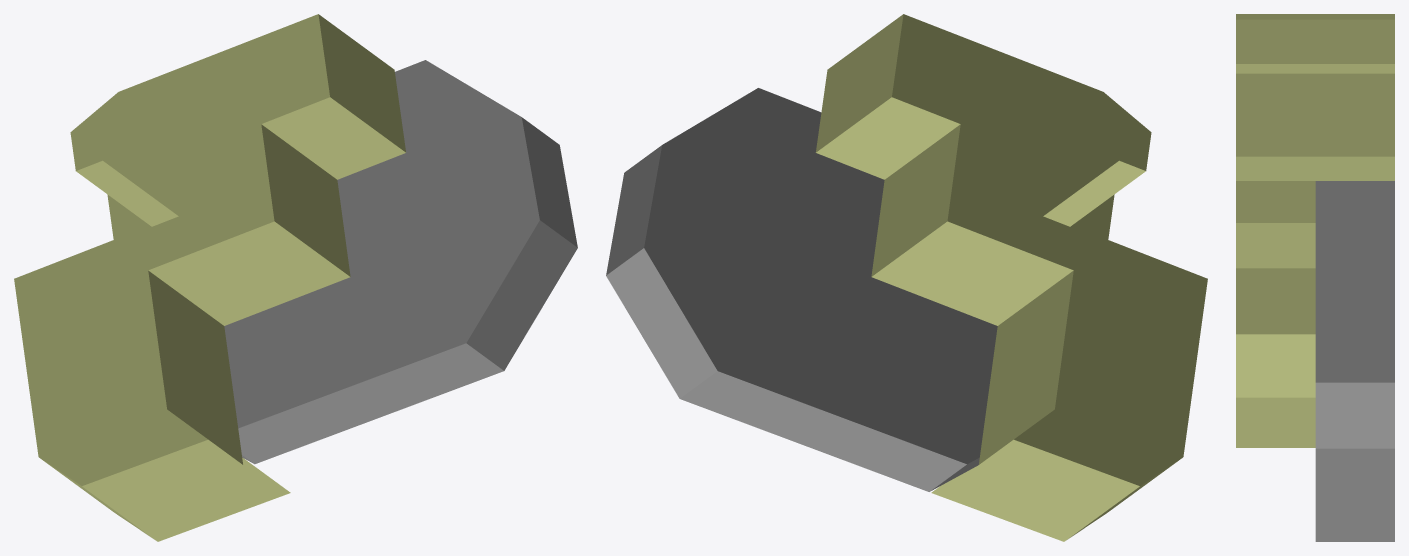
3 renders of one model, left to right at view 1: azimuth 30°, elevation 25°; view 2: azimuth 150°, elevation 25°; view 3: azimuth 270°, elevation 25°, orthographic. The views are drawn at different scales.
Visible parts, largest first — view 1: 0_1_3_2_1_1_2_0_1_1; view 2: 0_1_3_2_1_1_2_0_1_1; view 3: 0_1_3_2_1_1_2_0_1_1.
Boxes of the visible parts, box(x1,y1,x2,y2) form: 0_1_3_2_1_1_2_0_1_1: box(14, 14, 577, 541); 0_1_3_2_1_1_2_0_1_1: box(606, 14, 1207, 541); 0_1_3_2_1_1_2_0_1_1: box(1236, 14, 1394, 541).
Size of the model in its own units: 23.94 by 18.04 by 6.
